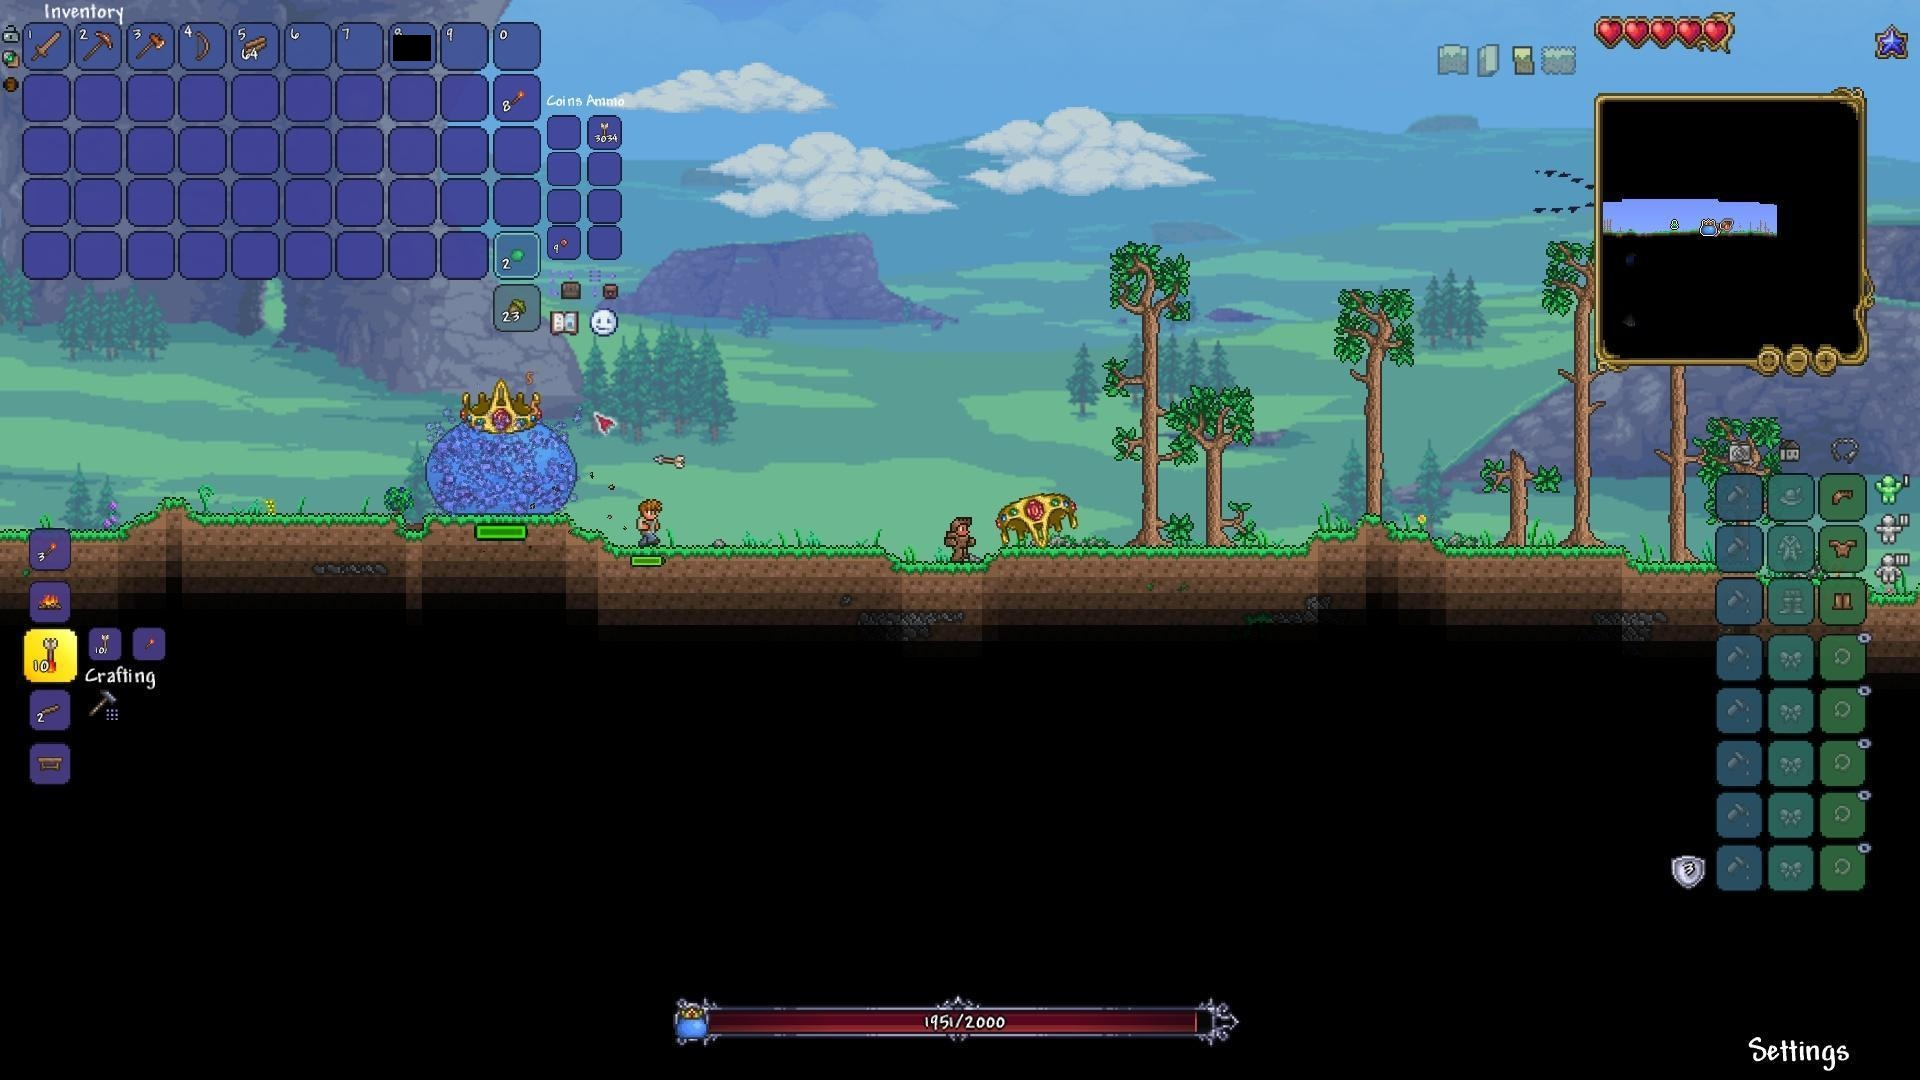breastplate: (1830, 537, 1859, 558)
helmet: (1828, 483, 1858, 510)
legs: (1830, 587, 1855, 616)
wood: (243, 36, 270, 61)
workbench: (36, 753, 67, 775)
